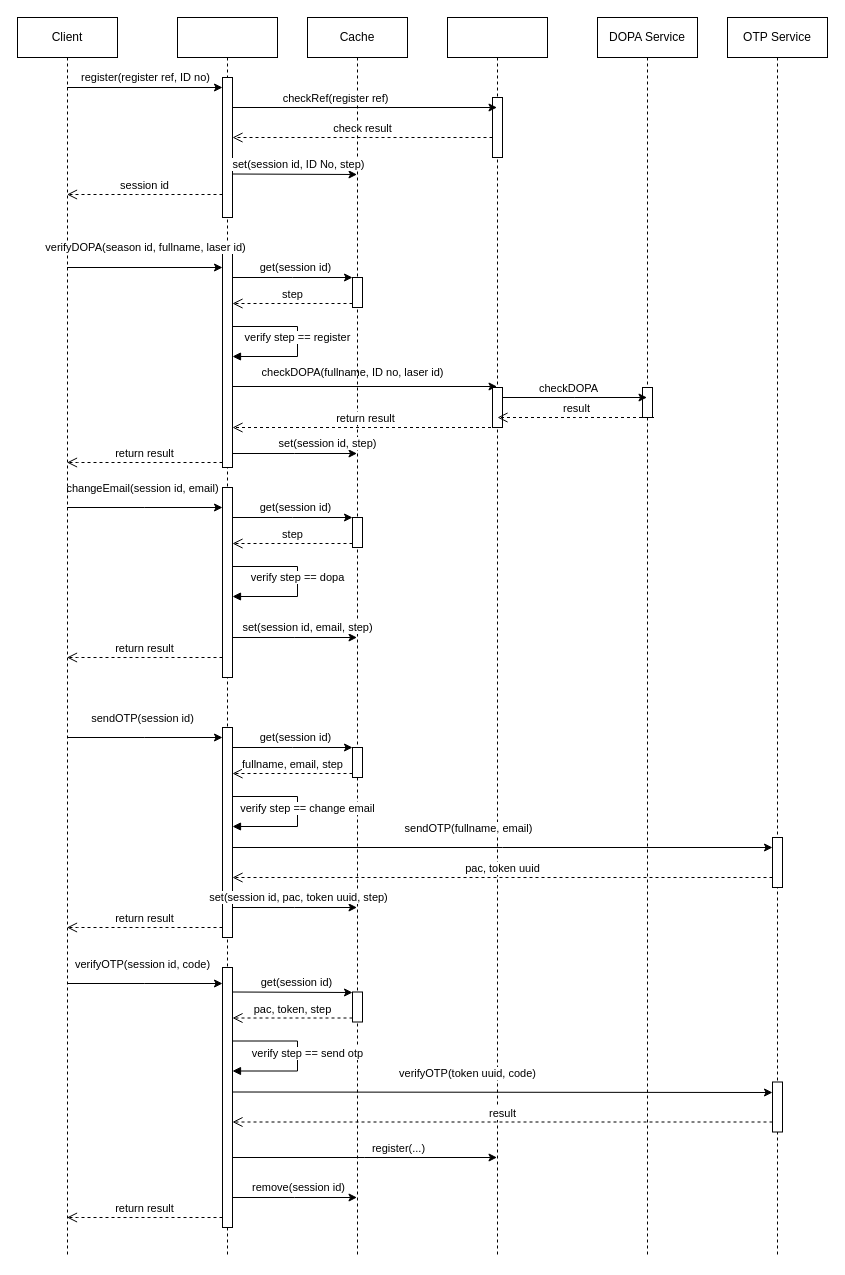
This 845x1275 diagram has some shape labels left out. Here are the shapes that lost their labels. From the top down, the box of each, then its label:
(176, 16, 278, 1258): Front Service
(446, 16, 548, 1258): CORE Service
